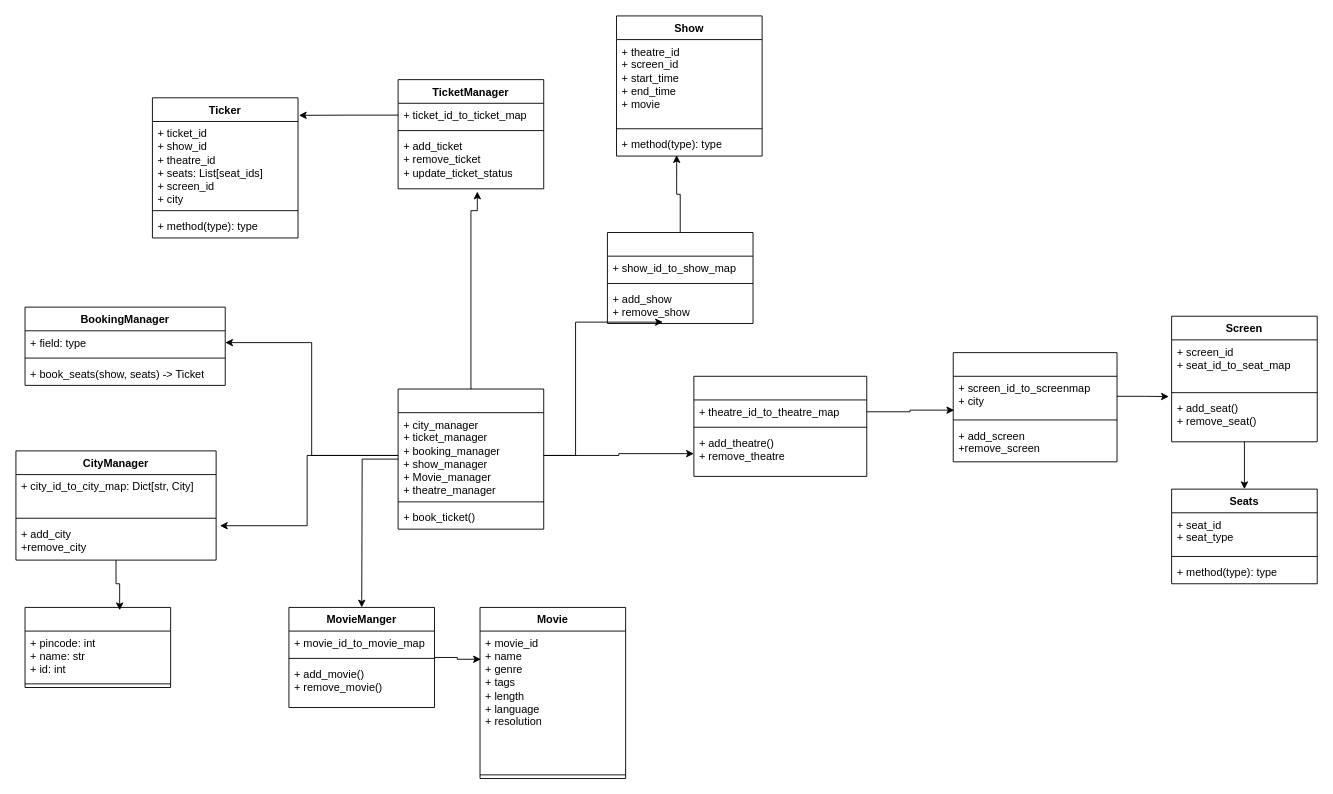
Some shapes in this 1333 by 794 pixel diagram are drawn without their labels. Here are the shapes that lost their labels. From the top down, the box of each, then its label:
(607, 232, 753, 324): ShowManager
(693, 375, 867, 476): TheatreManager
(952, 352, 1117, 462): Theatre
(397, 388, 544, 529): BookMyManager
(24, 607, 171, 688): City
